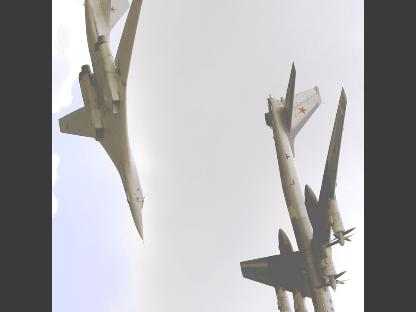Su34: (58, 0, 150, 246)
Su57: (239, 59, 359, 311)
